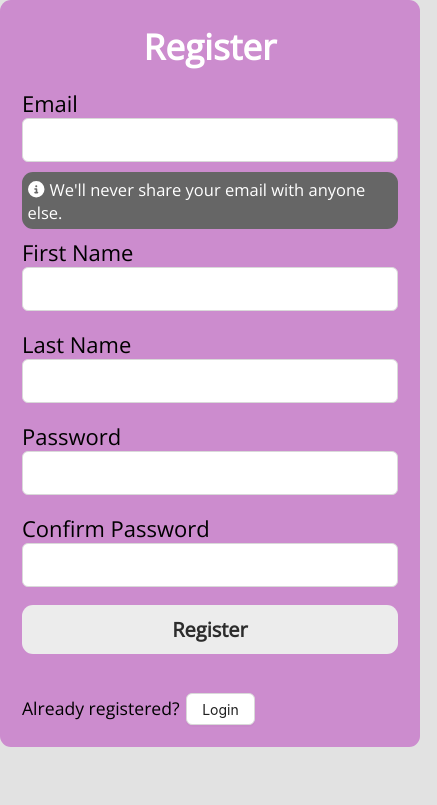
Register › handles form submission with error
In the field labelled "Email": (210, 140) [22, 118, 398, 162], type "test@example.com"
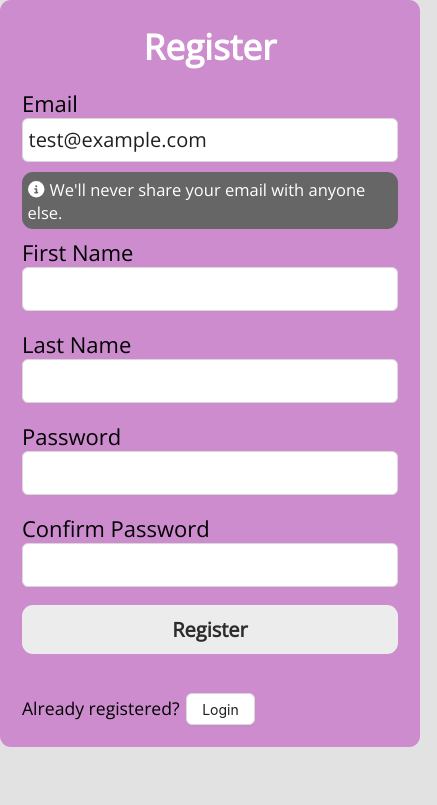
In the field labelled "First Name": (210, 289) [22, 267, 398, 311], type "John"
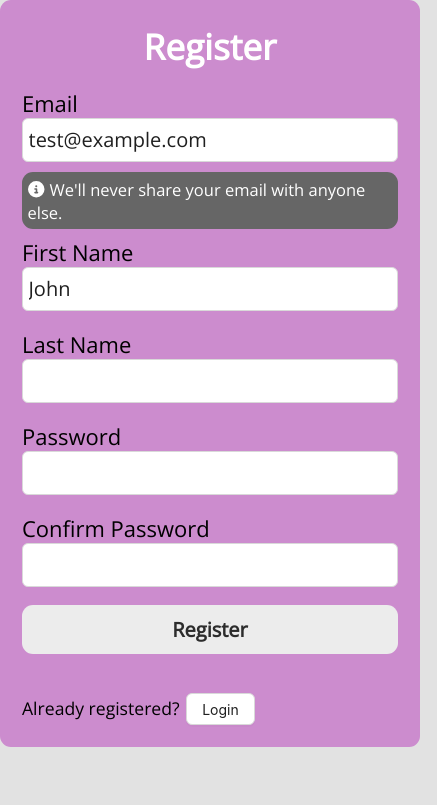
In the field labelled "Last Name": (210, 381) [22, 359, 398, 403], type "Doe"
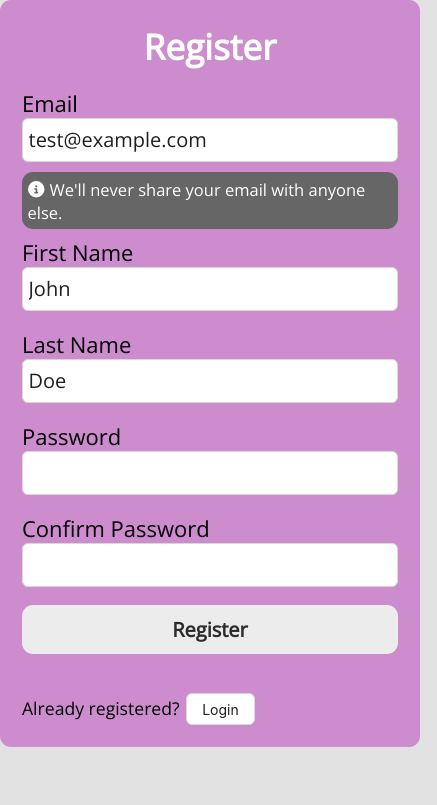
In the password field labelled "Password": (210, 473) [22, 451, 398, 495], type "Test123!"
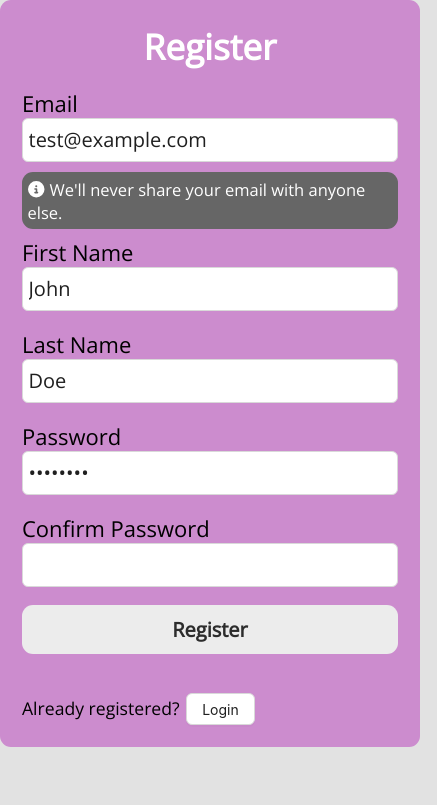
In the password field labelled "Confirm Password": (210, 565) [22, 543, 398, 587], type "Test123!"
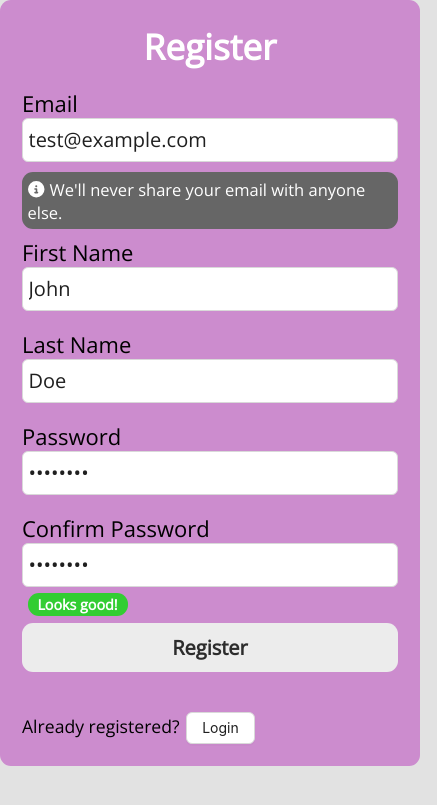
Submit the form from the button "Register", box [22, 623, 398, 672]
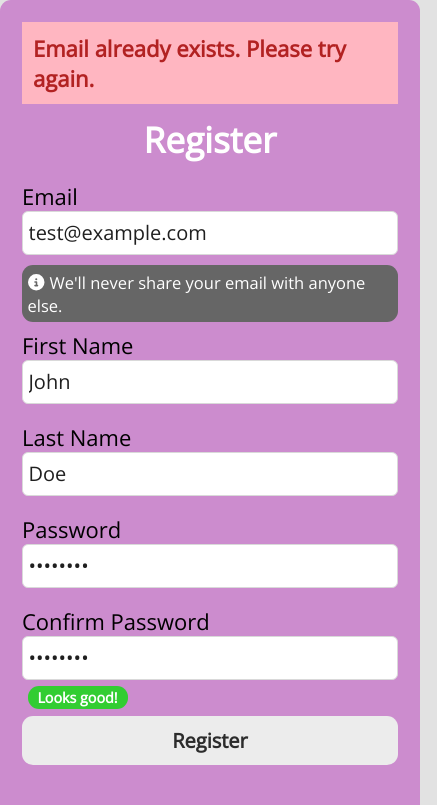
Now the text "Email already exists. Please try again." is shown, box [22, 22, 398, 104]
